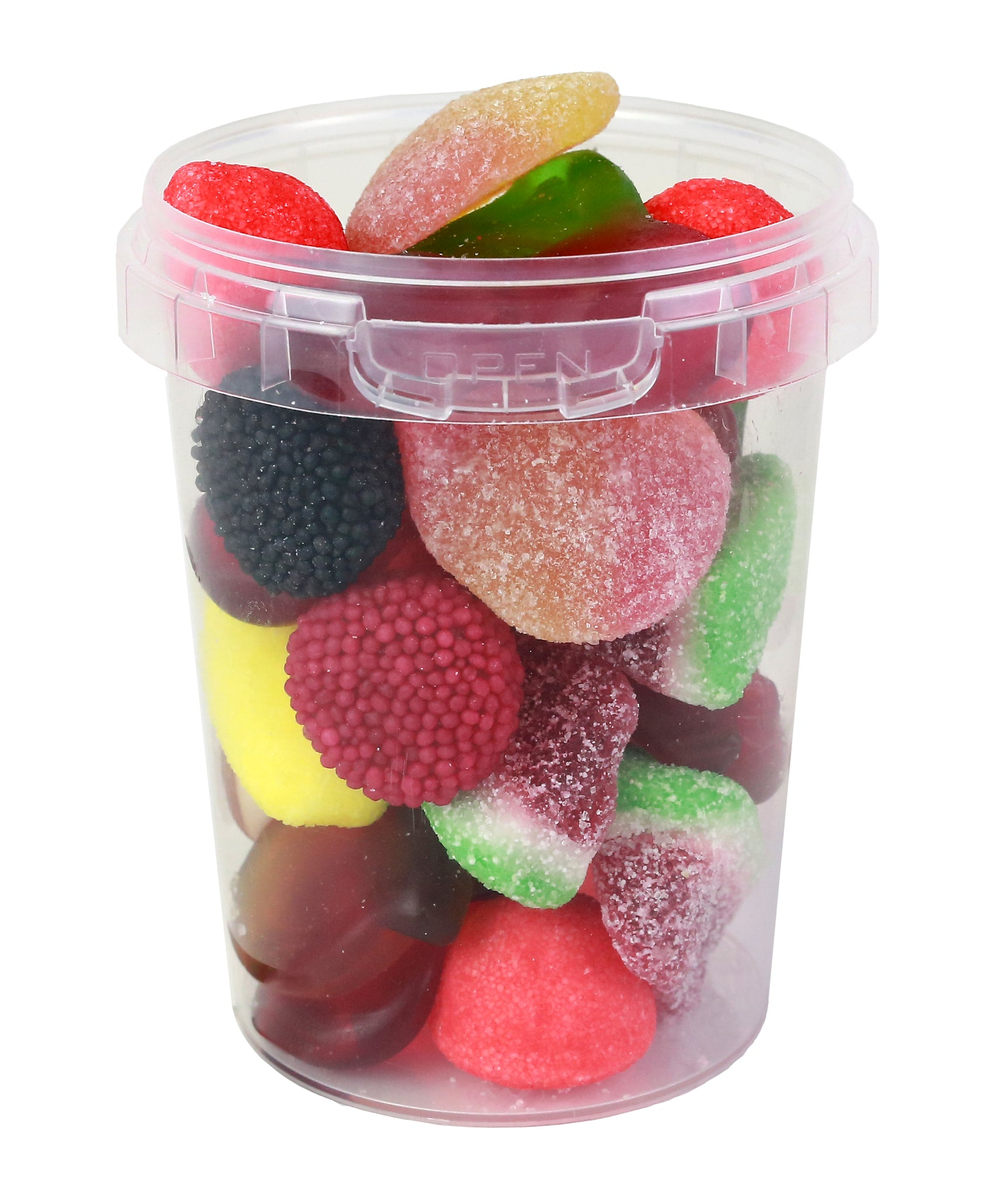Chaise: (690, 146, 852, 515)
